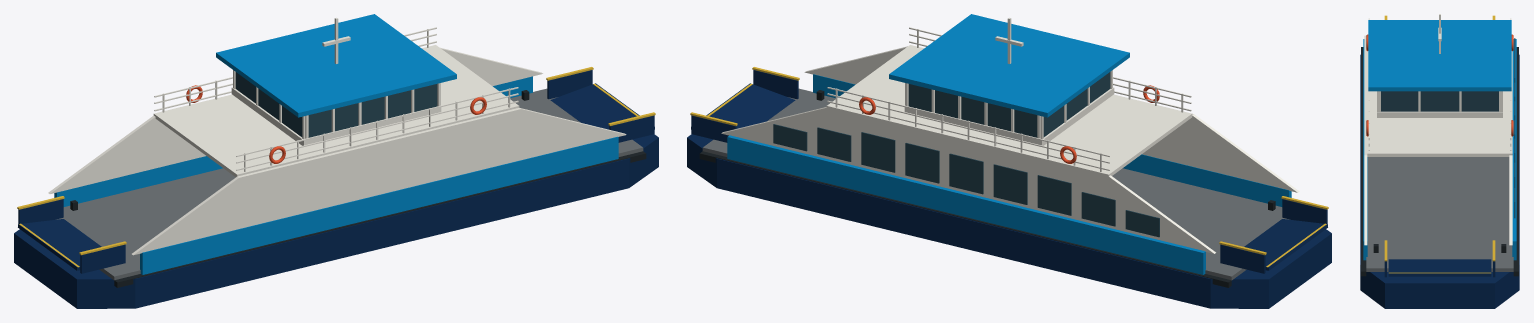
File: gvb-ferry-runtime.glb
3 renders of one model, left to right at view 1: azimuth 30°, elevation 25°; view 2: azimuth 150°, elevation 25°; view 3: azimuth 270°, elevation 25°, orthographic. The views are drawn at different scales.
Visible parts, largest first — view 1: ferry-color-f2f0e7, ferry-color-008bce, ferry-color-092b56, ferry-color-6b7174, ferry-color-284856, ferry-color-1c2428, ferry-color-e8bd35, ferry-color-e6532c; view 2: ferry-color-f2f0e7, ferry-color-008bce, ferry-color-092b56, ferry-color-284856, ferry-color-6b7174, ferry-color-1c2428, ferry-color-e8bd35, ferry-color-e6532c; view 3: ferry-color-6b7174, ferry-color-008bce, ferry-color-f2f0e7, ferry-color-092b56, ferry-color-284856, ferry-color-1c2428, ferry-color-e8bd35, ferry-color-e6532c.
Part boxes in pixels (x1,y1,x2,y2): ferry-color-f2f0e7: (48, 17, 626, 255); ferry-color-008bce: (54, 14, 618, 274); ferry-color-092b56: (14, 70, 658, 308); ferry-color-6b7174: (56, 88, 643, 280); ferry-color-284856: (235, 72, 437, 137); ferry-color-1c2428: (70, 90, 646, 287); ferry-color-e8bd35: (17, 67, 655, 267); ferry-color-e6532c: (186, 85, 486, 163); ferry-color-f2f0e7: (721, 17, 1299, 253); ferry-color-008bce: (727, 14, 1291, 274); ferry-color-092b56: (687, 70, 1331, 308); ferry-color-284856: (773, 72, 1159, 237); ferry-color-6b7174: (702, 88, 1289, 280); ferry-color-1c2428: (699, 90, 1275, 287); ferry-color-e8bd35: (690, 67, 1328, 267); ferry-color-e6532c: (859, 85, 1159, 163); ferry-color-6b7174: (1366, 157, 1513, 271); ferry-color-008bce: (1363, 20, 1516, 260); ferry-color-f2f0e7: (1364, 14, 1512, 245); ferry-color-092b56: (1360, 54, 1519, 308); ferry-color-284856: (1381, 38, 1515, 218); ferry-color-1c2428: (1361, 47, 1518, 276); ferry-color-e8bd35: (1384, 15, 1495, 273); ferry-color-e6532c: (1366, 34, 1513, 136).
Size of the model in its own units: 33 by 10.65 by 9.
